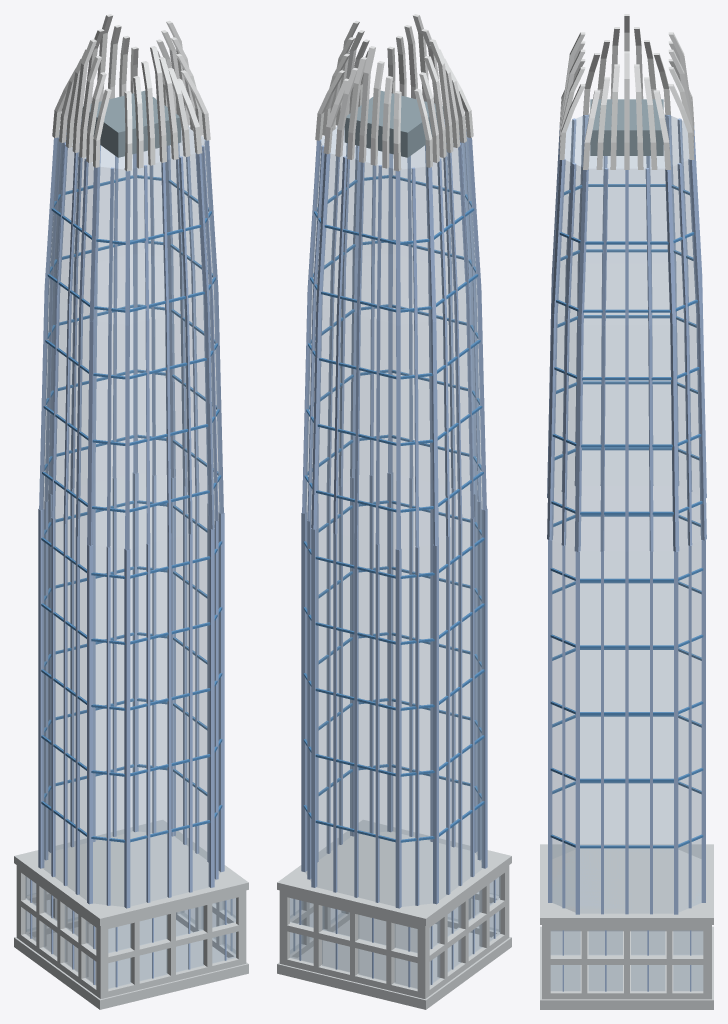
Rendered from ifc-before-crown.glb.
3 renders of one model, left to right at view 1: azimuth 30°, elevation 25°; view 2: azimuth 150°, elevation 25°; view 3: azimuth 270°, elevation 25°, orthographic.
Visible parts, largest first — view 1: IFC chamfered tapered shaft, IFC mall terrace, IFC mall plinth, IFC vertical mullion.048, IFC recessed crown services, IFC vertical mullion.036, IFC vertical mullion.066, IFC vertical mullion.030, IFC vertical mullion.012, IFC vertical mullion.054, IFC vertical mullion.045, IFC vertical mullion.042 (+85 smaller); view 2: IFC chamfered tapered shaft, IFC mall terrace, IFC mall plinth, IFC vertical mullion, IFC recessed crown services, IFC vertical mullion.012, IFC vertical mullion.054, IFC vertical mullion.018, IFC vertical mullion.036, IFC vertical mullion.066, IFC vertical mullion.003, IFC vertical mullion.006 (+86 smaller); view 3: IFC chamfered tapered shaft, IFC mall terrace, IFC mall plinth, IFC recessed crown services, IFC vertical mullion.018, IFC vertical mullion.030, IFC vertical mullion.012, IFC vertical mullion.036, IFC mall xp flush spandrel, IFC vertical mullion.019, IFC vertical mullion.031, IFC vertical mullion.013 (+48 smaller).
Boxes of the visible parts, bbox=[...] form: IFC chamfered tapered shaft: bbox=[42, 126, 220, 906]; IFC mall terrace: bbox=[14, 820, 248, 925]; IFC mall plinth: bbox=[14, 915, 248, 1009]; IFC vertical mullion.048: bbox=[124, 548, 130, 908]; IFC recessed crown services: bbox=[81, 90, 181, 157]; IFC vertical mullion.036: bbox=[208, 528, 214, 887]; IFC vertical mullion.066: bbox=[38, 508, 44, 868]; IFC vertical mullion.030: bbox=[218, 512, 224, 871]; IFC vertical mullion.012: bbox=[132, 473, 138, 832]; IFC vertical mullion.054: bbox=[87, 545, 92, 904]; IFC vertical mullion.045: bbox=[146, 543, 150, 902]; IFC vertical mullion.042: bbox=[167, 538, 171, 897]; IFC chamfered tapered shaft: bbox=[305, 126, 483, 906]; IFC mall terrace: bbox=[277, 820, 511, 925]; IFC mall plinth: bbox=[277, 915, 511, 1009]; IFC vertical mullion: bbox=[395, 548, 401, 908]; IFC recessed crown services: bbox=[344, 90, 444, 157]; IFC vertical mullion.012: bbox=[311, 528, 317, 887]; IFC vertical mullion.054: bbox=[481, 508, 487, 868]; IFC vertical mullion.018: bbox=[301, 512, 307, 871]; IFC vertical mullion.036: bbox=[387, 473, 393, 832]; IFC vertical mullion.066: bbox=[433, 545, 438, 904]; IFC vertical mullion.003: bbox=[375, 543, 379, 902]; IFC vertical mullion.006: bbox=[354, 538, 358, 897]; IFC chamfered tapered shaft: bbox=[552, 114, 701, 913]; IFC mall terrace: bbox=[540, 844, 713, 924]; IFC mall plinth: bbox=[540, 926, 713, 1009]; IFC recessed crown services: bbox=[590, 99, 663, 155]; IFC vertical mullion.018: bbox=[674, 551, 678, 914]; IFC vertical mullion.030: bbox=[575, 551, 579, 914]; IFC vertical mullion.012: bbox=[701, 540, 705, 902]; IFC vertical mullion.036: bbox=[548, 540, 552, 902]; IFC mall xp flush spandrel: bbox=[542, 989, 711, 999]; IFC vertical mullion.019: bbox=[670, 325, 679, 552]; IFC vertical mullion.031: bbox=[574, 325, 583, 552]; IFC vertical mullion.013: bbox=[696, 314, 706, 540].
Bounding box in the file's own units: 2.6 × 15.5 × 2.6.
